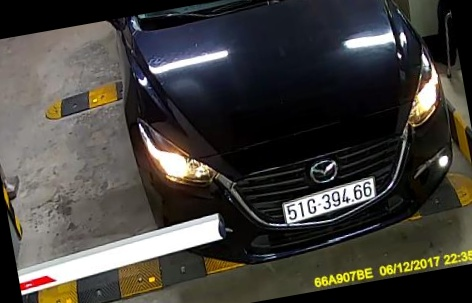plate: (279, 172, 381, 227)
